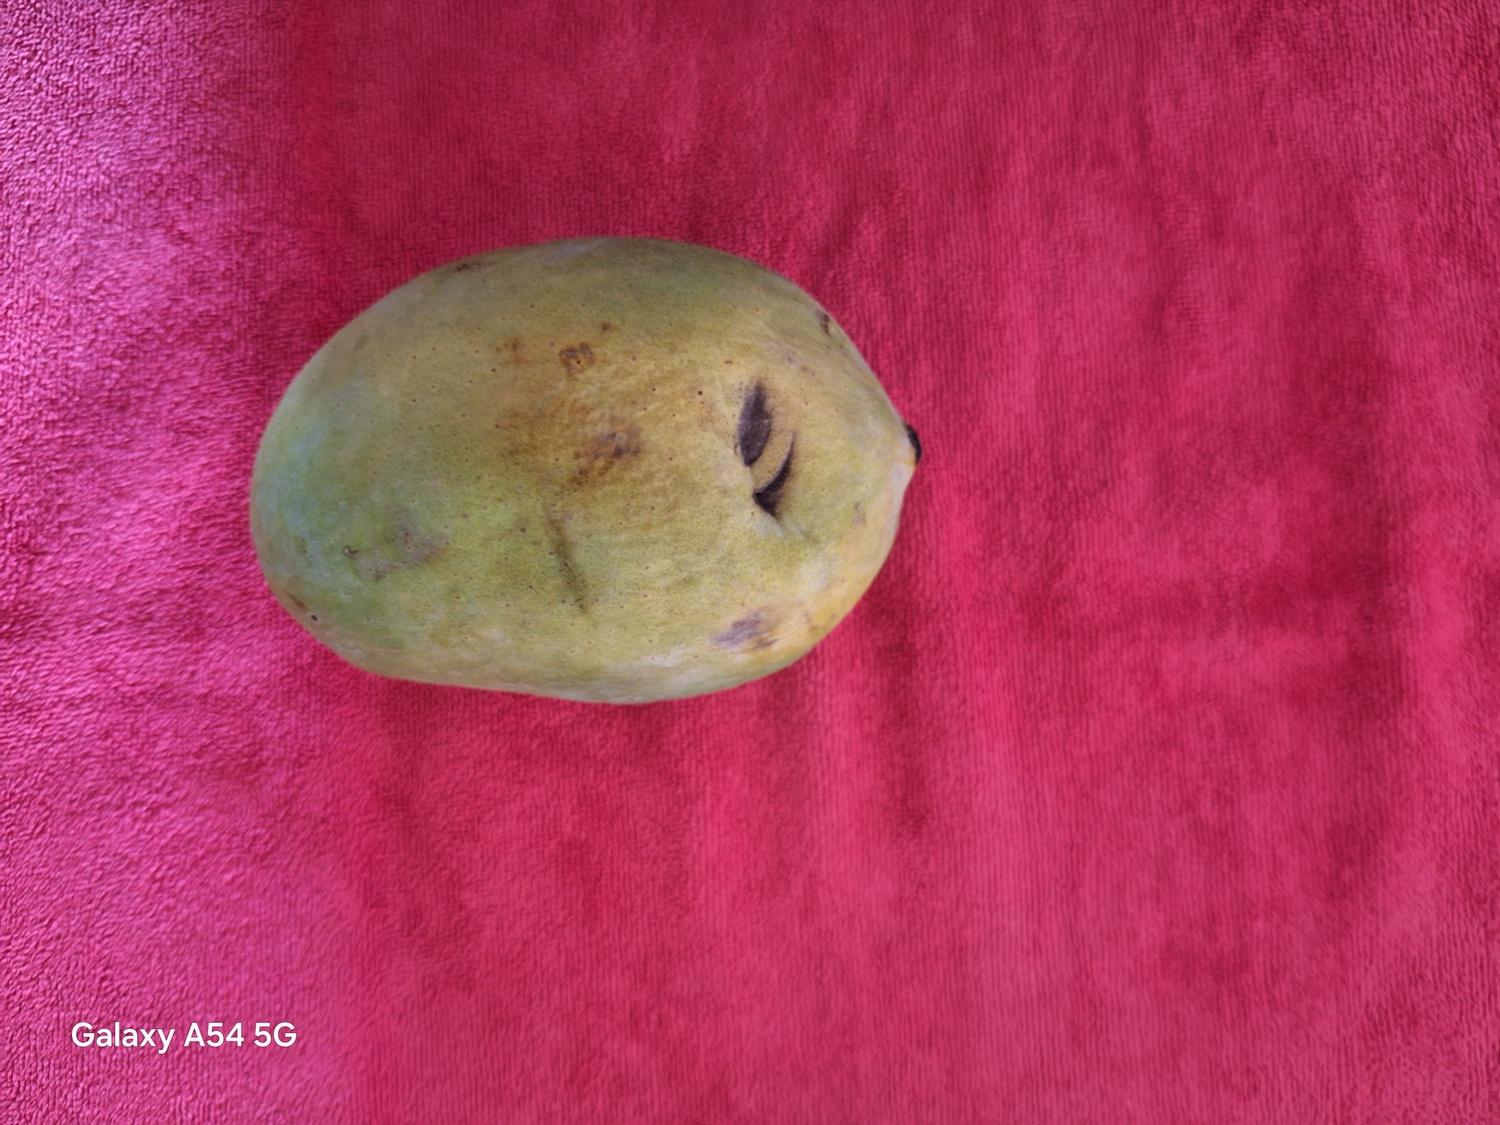mango: (247, 232, 921, 705)
